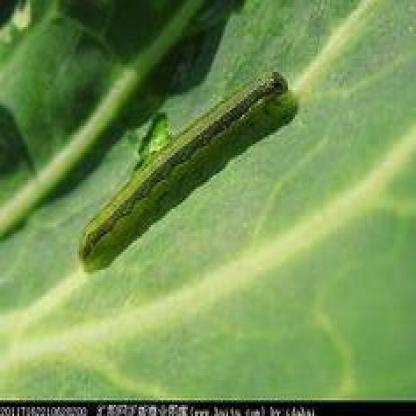armyworm: (55, 43, 311, 299)
